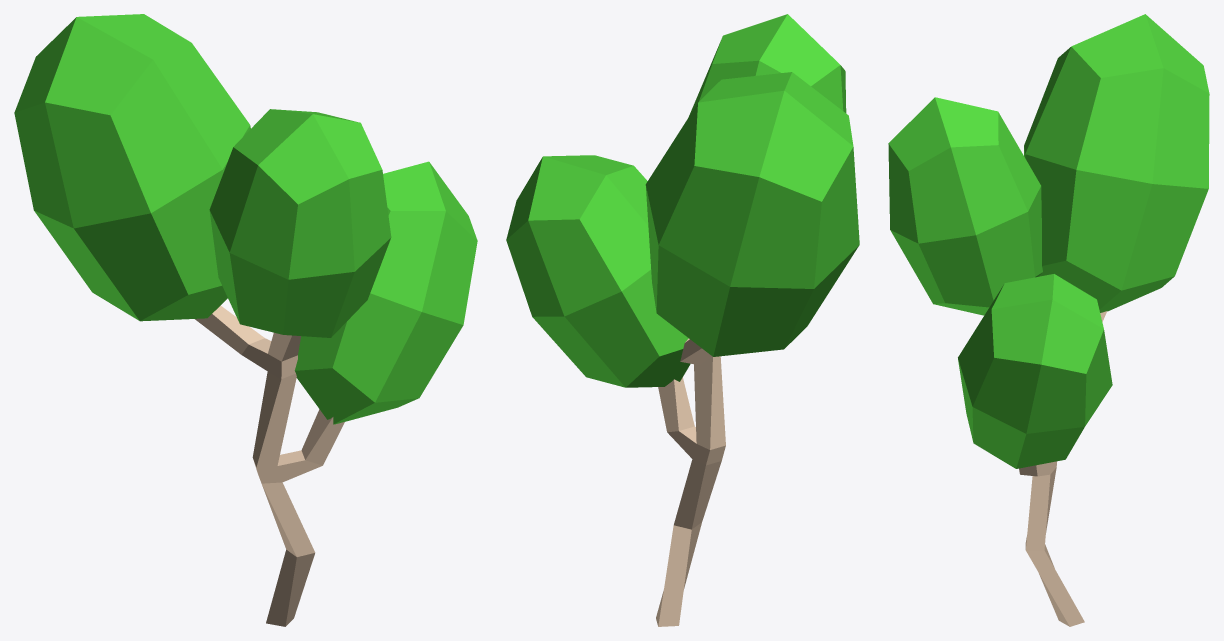
The model's file is tree.fbx.
The picture shows the model from 3 angles, left to right: view 1: azimuth 30°, elevation 25°; view 2: azimuth 150°, elevation 25°; view 3: azimuth 270°, elevation 25°; orthographic projection. The views are drawn at different scales.
Visible parts, largest first — view 1: Cube.002, Cube.001, Cube.003, tree; view 2: Cube.002, Cube.003, tree, Cube.001; view 3: Cube.002, Cube.001, Cube.003, tree.
Boxes of the visible parts, x1=… form: Cube.002: x1=14, y1=14, x2=250, y2=321; Cube.001: x1=209, y1=109, x2=391, y2=337; Cube.003: x1=294, y1=161, x2=477, y2=424; tree: x1=195, y1=305, x2=344, y2=626; Cube.002: x1=645, y1=72, x2=859, y2=356; Cube.003: x1=506, y1=155, x2=690, y2=387; tree: x1=656, y1=338, x2=725, y2=626; Cube.001: x1=689, y1=14, x2=846, y2=116; Cube.002: x1=1024, y1=14, x2=1209, y2=312; Cube.001: x1=888, y1=97, x2=1042, y2=315; Cube.003: x1=958, y1=274, x2=1112, y2=468; tree: x1=1019, y1=311, x2=1107, y2=626.
Bounding box in the file's own units: 415 × 633 × 342.
